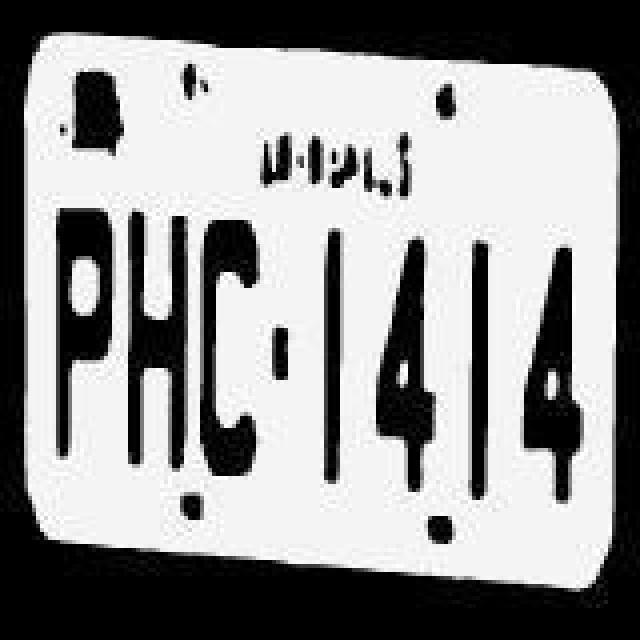1: (460, 222, 500, 506), (316, 222, 356, 498)
4: (518, 234, 594, 518), (372, 230, 444, 498)
C: (196, 212, 268, 492)
H: (118, 198, 194, 490)
P: (40, 200, 120, 488)
